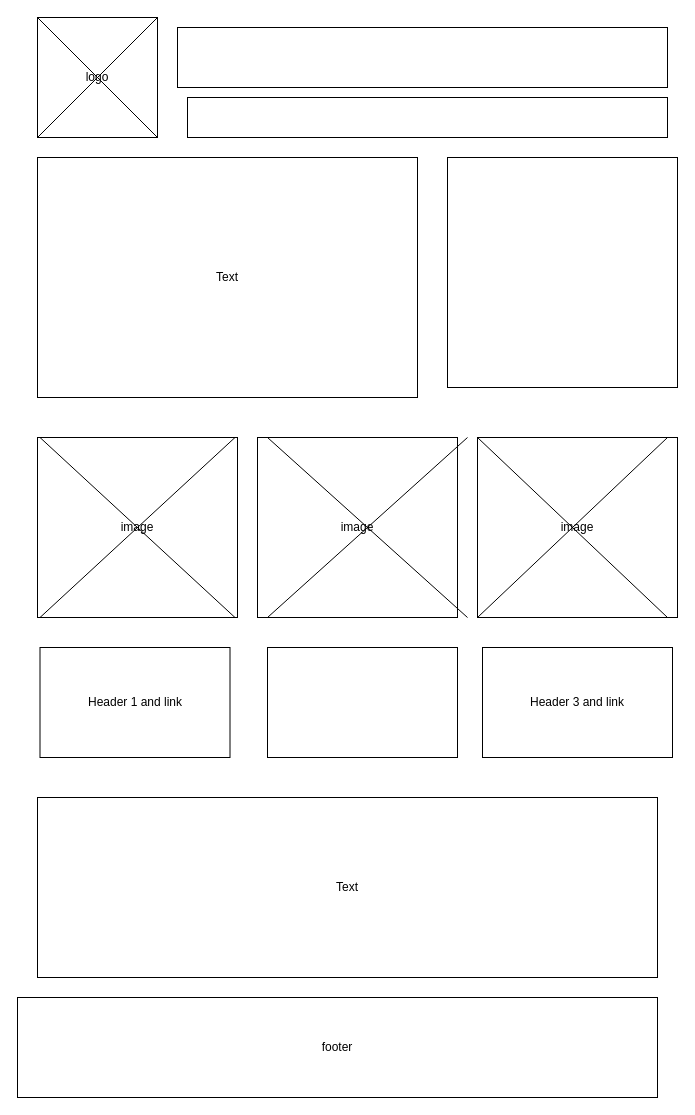
Image size: 695x1115. Some labels were removed from this diagram. Each missing label, with the box of its shape:
call to Action: (446, 156, 678, 388)
header: (176, 26, 668, 88)
Header 2 and link: (266, 646, 458, 758)
nav: (186, 96, 668, 138)
